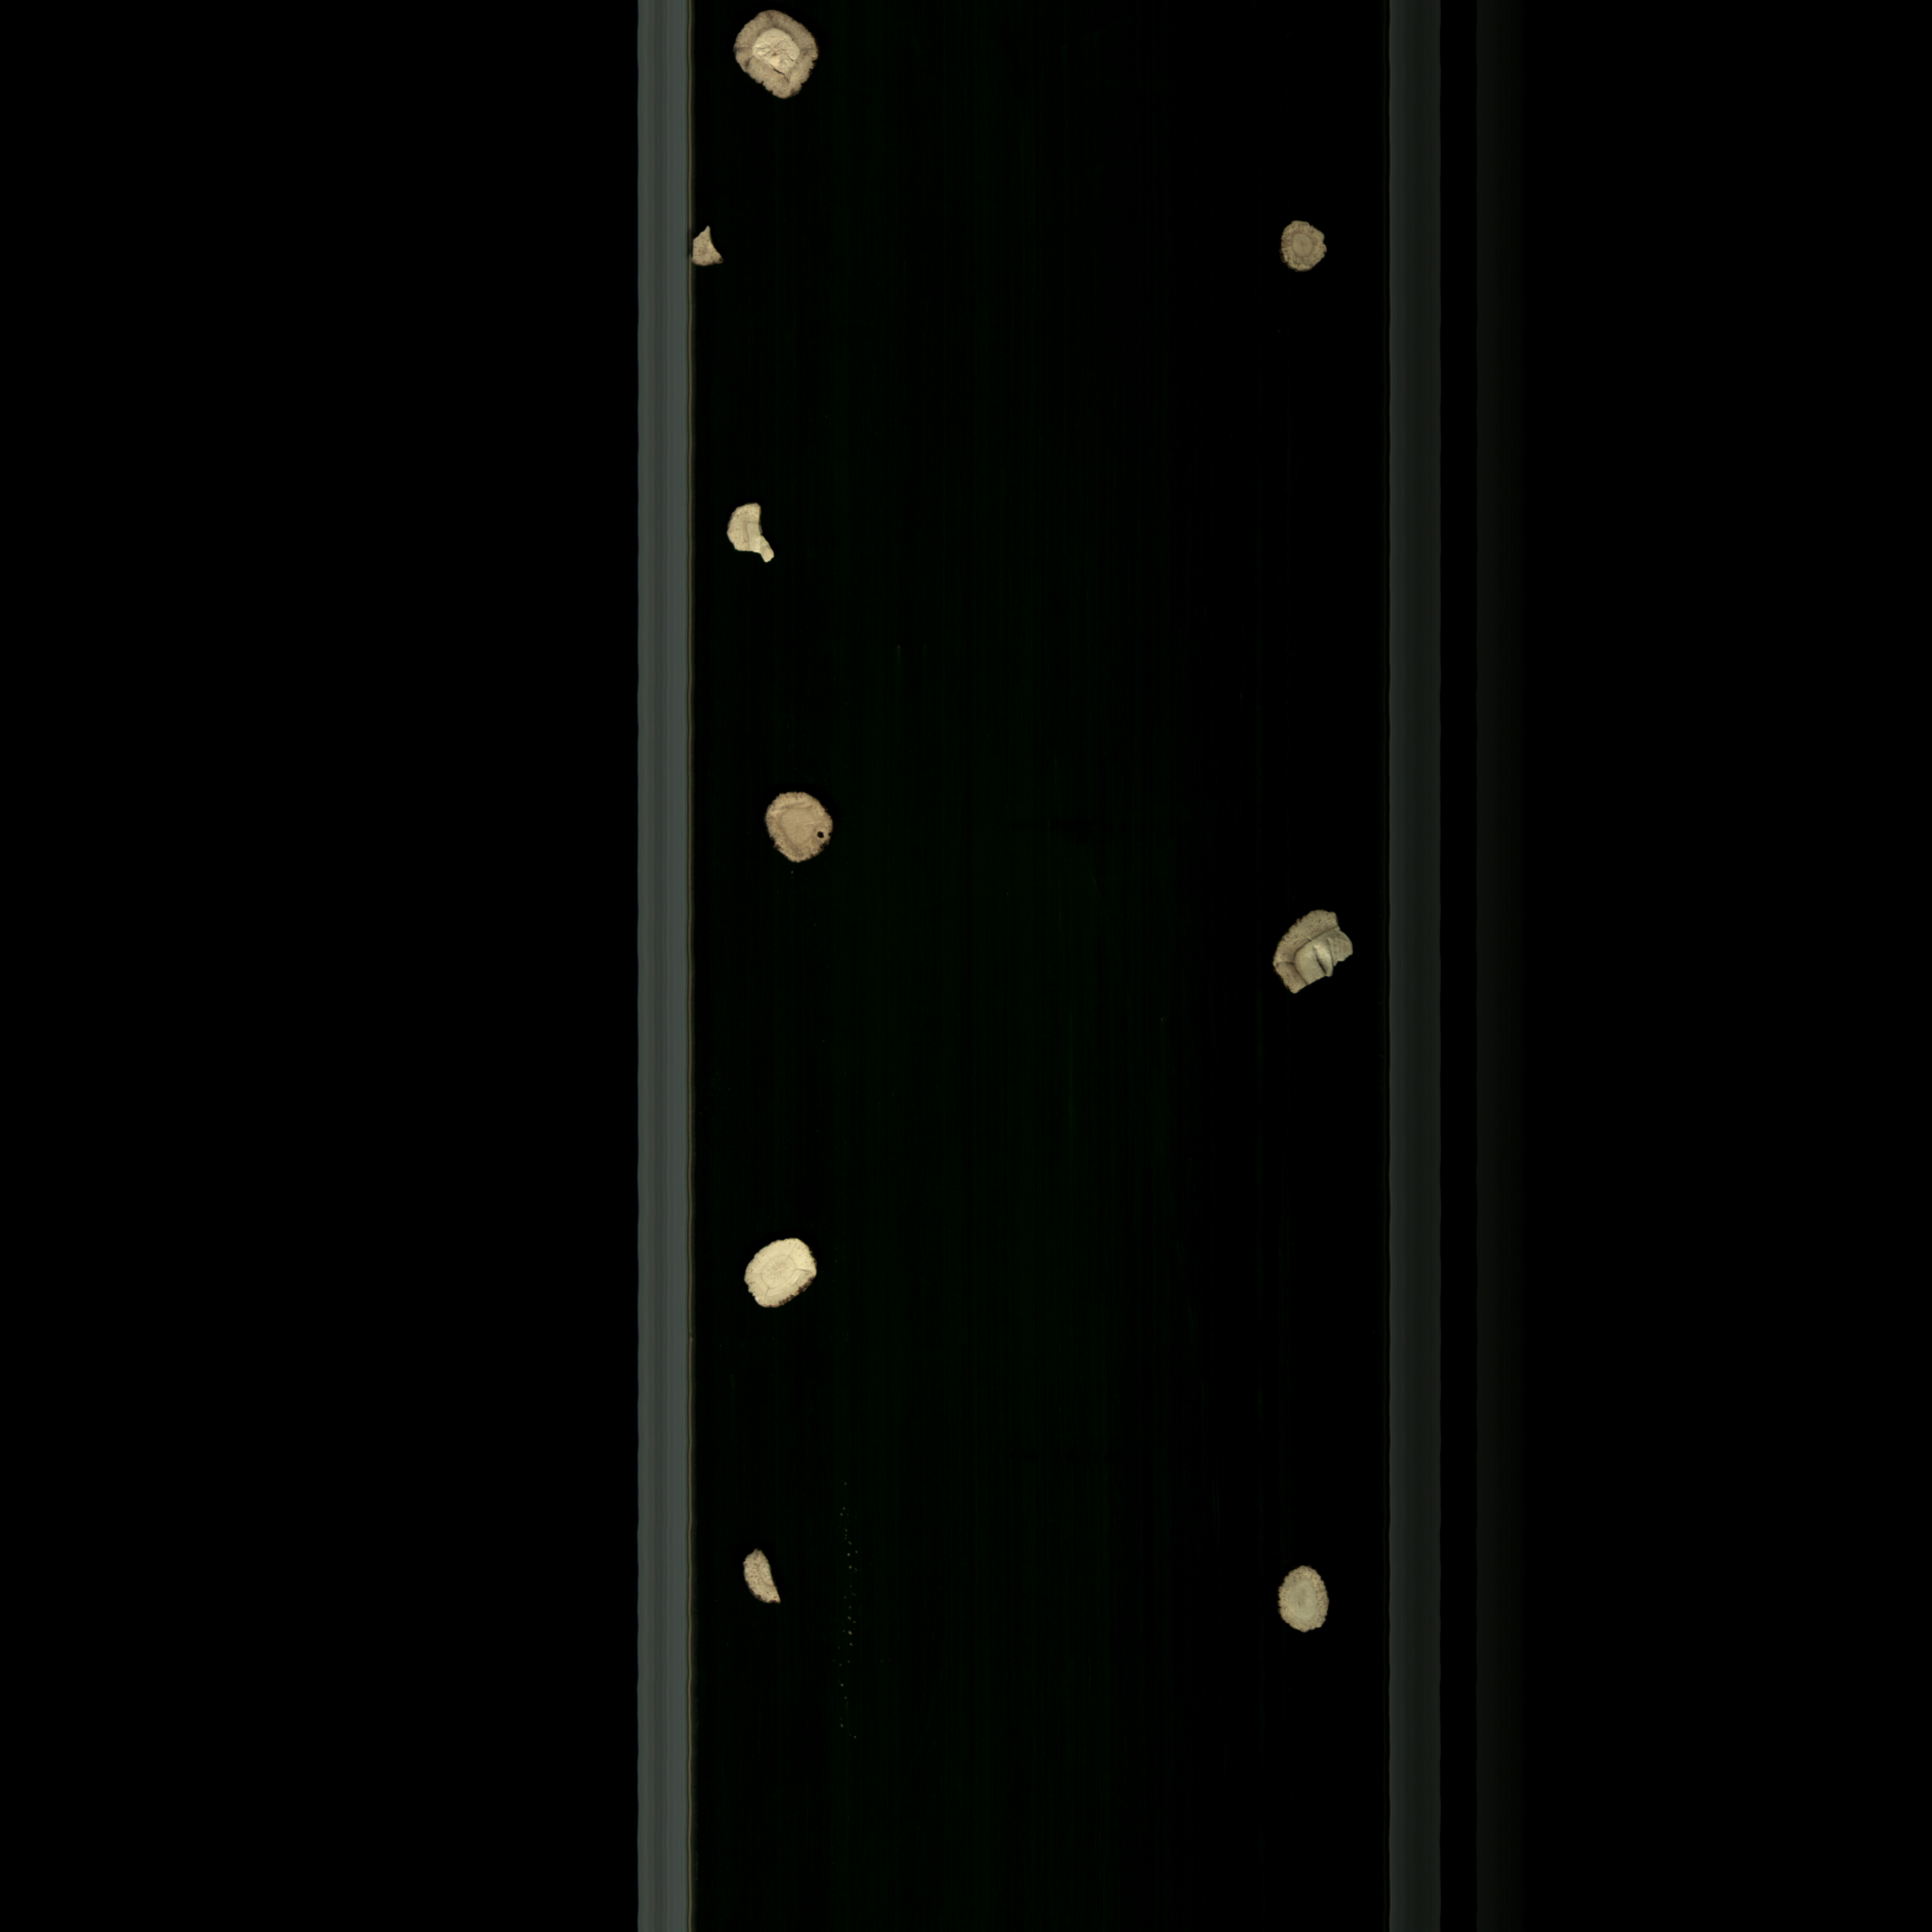debris: (1260, 899, 1371, 1010), (718, 492, 798, 577)
distortion: (1261, 1559, 1343, 1642)
dreg: (725, 1543, 801, 1619), (679, 216, 738, 276)
hole: (743, 782, 847, 883)
moldy: (708, 5, 869, 115), (1260, 218, 1336, 287)
